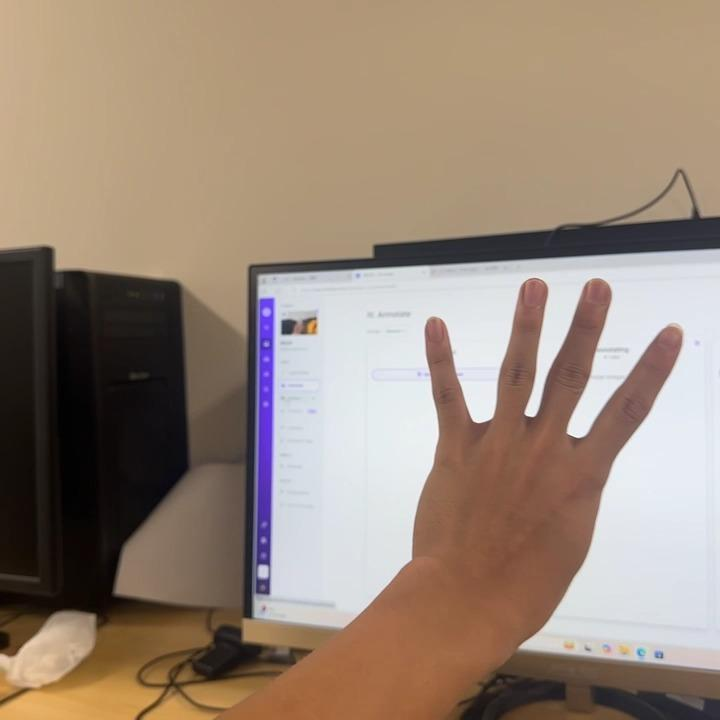without_gloves: (363, 225, 693, 644)
